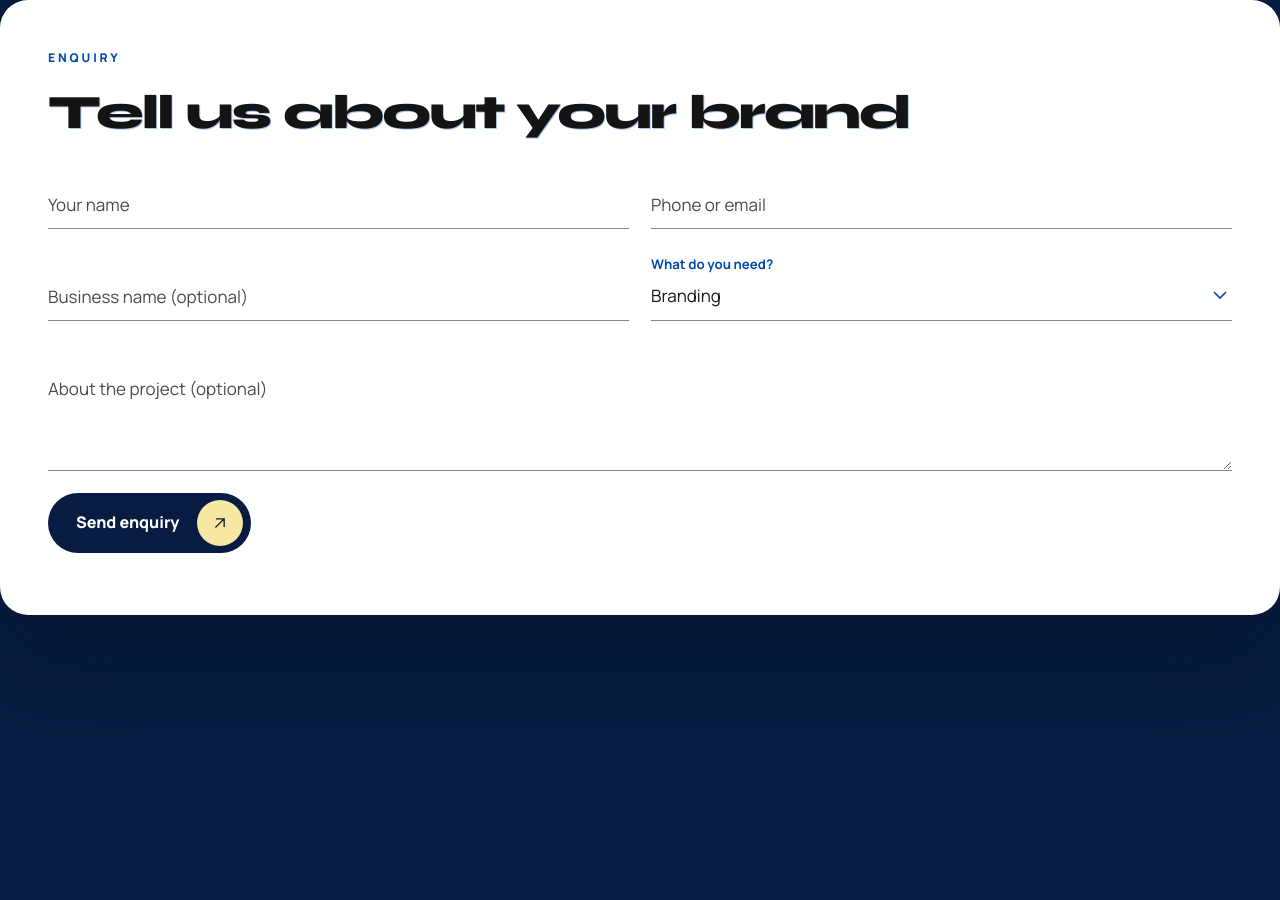
Scenario: EnquiryForm › shows server-side field errors
Type "Asha" into the field labelled "Your name".
click(338, 203); type("Asha")  # box [48, 177, 629, 229]
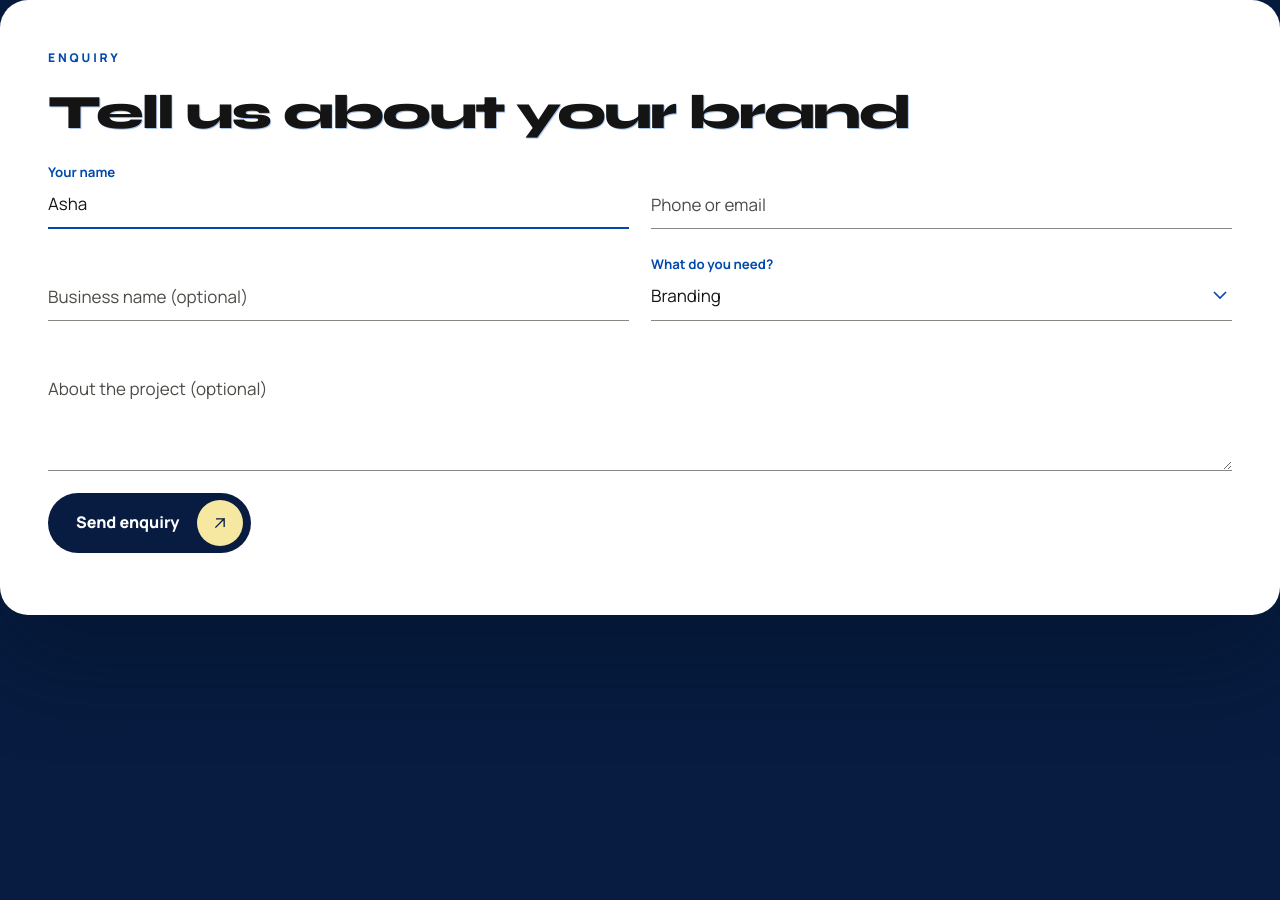
Type "asha@example.com" into the field labelled "Phone or email".
click(942, 203); type("asha@example.com")  # box [651, 177, 1232, 229]
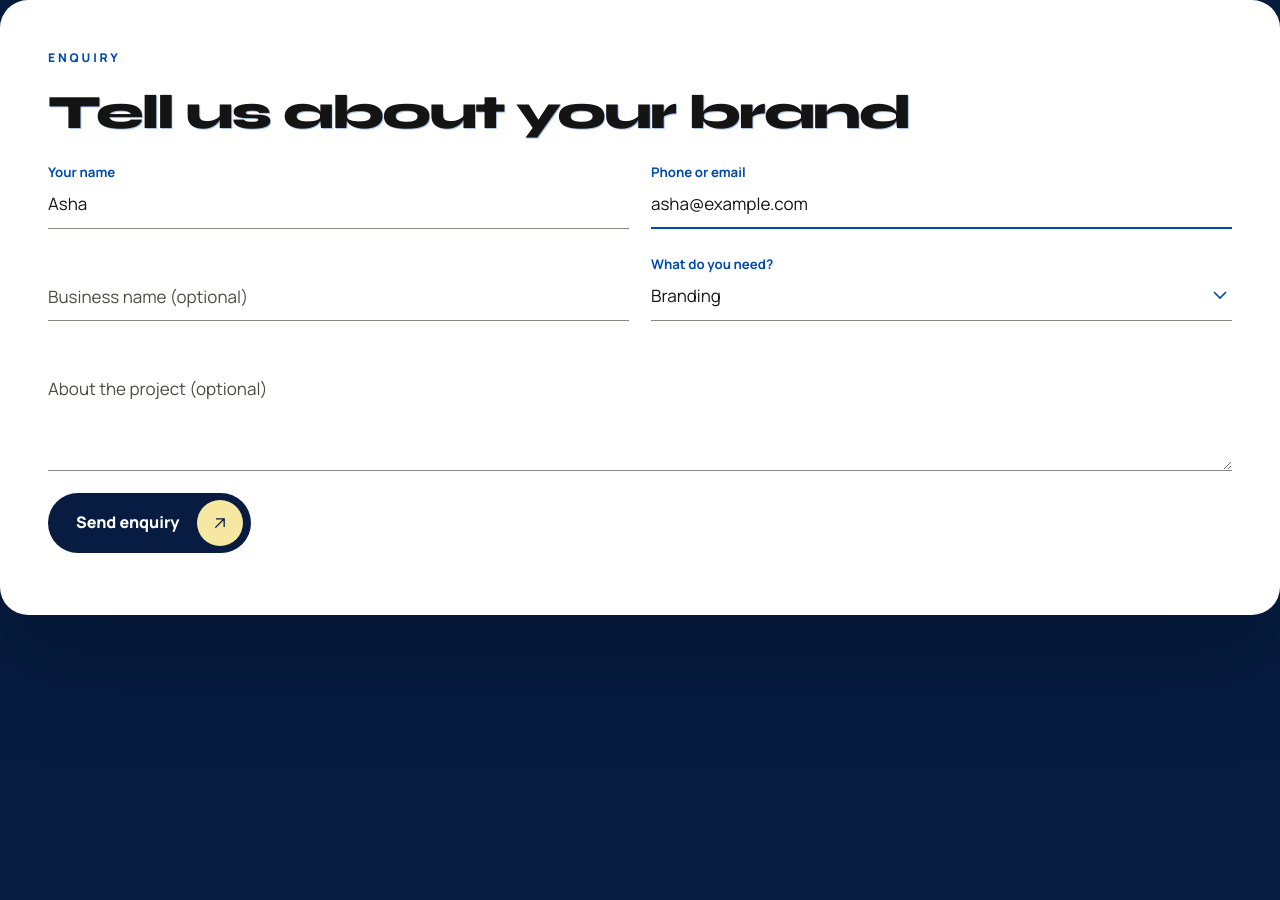
Select "Website Development" in the dropdown labelled "What do you need?" at (942, 295), box [651, 269, 1232, 321]
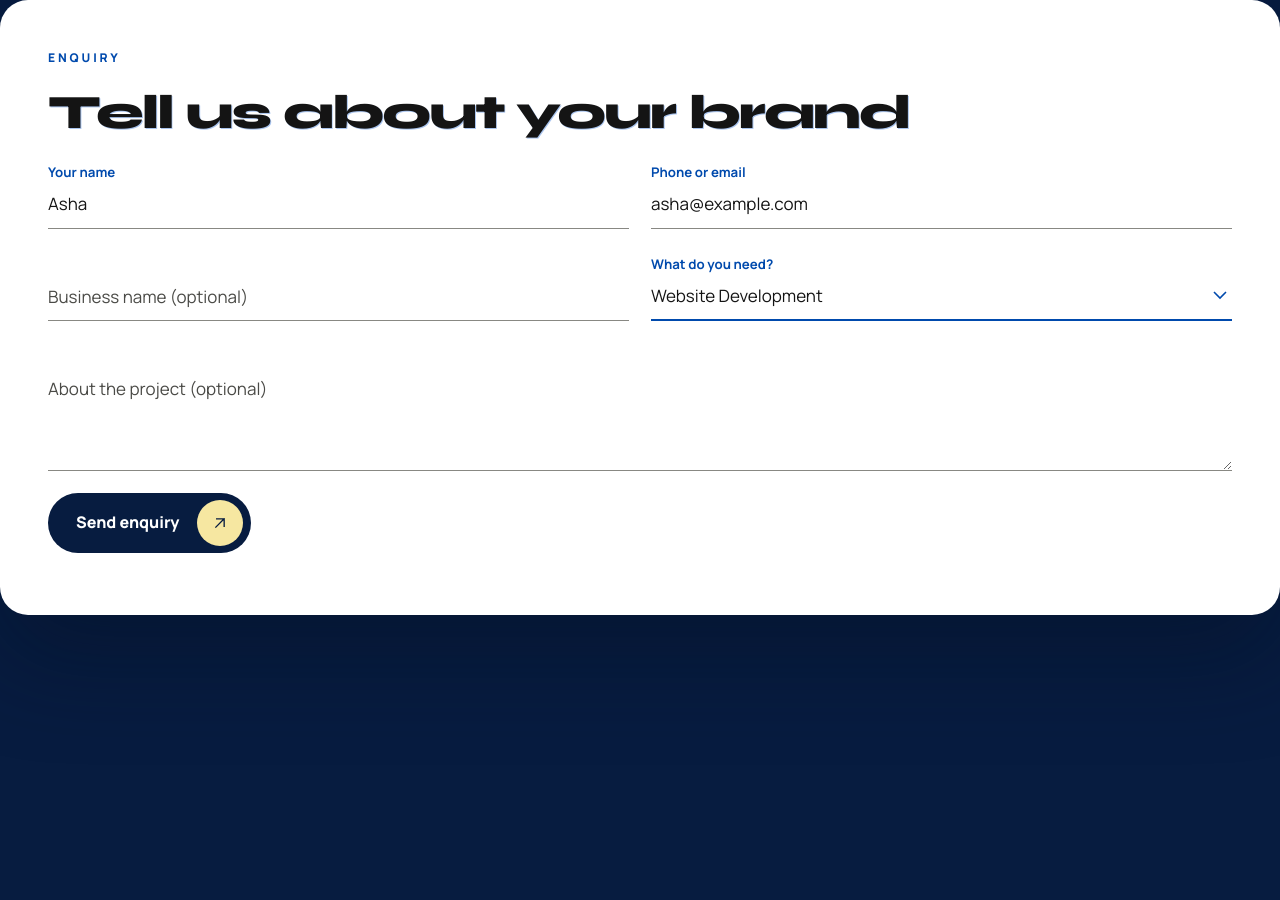
Click the button "Send enquiry".
click(150, 523)  # box [48, 493, 251, 553]
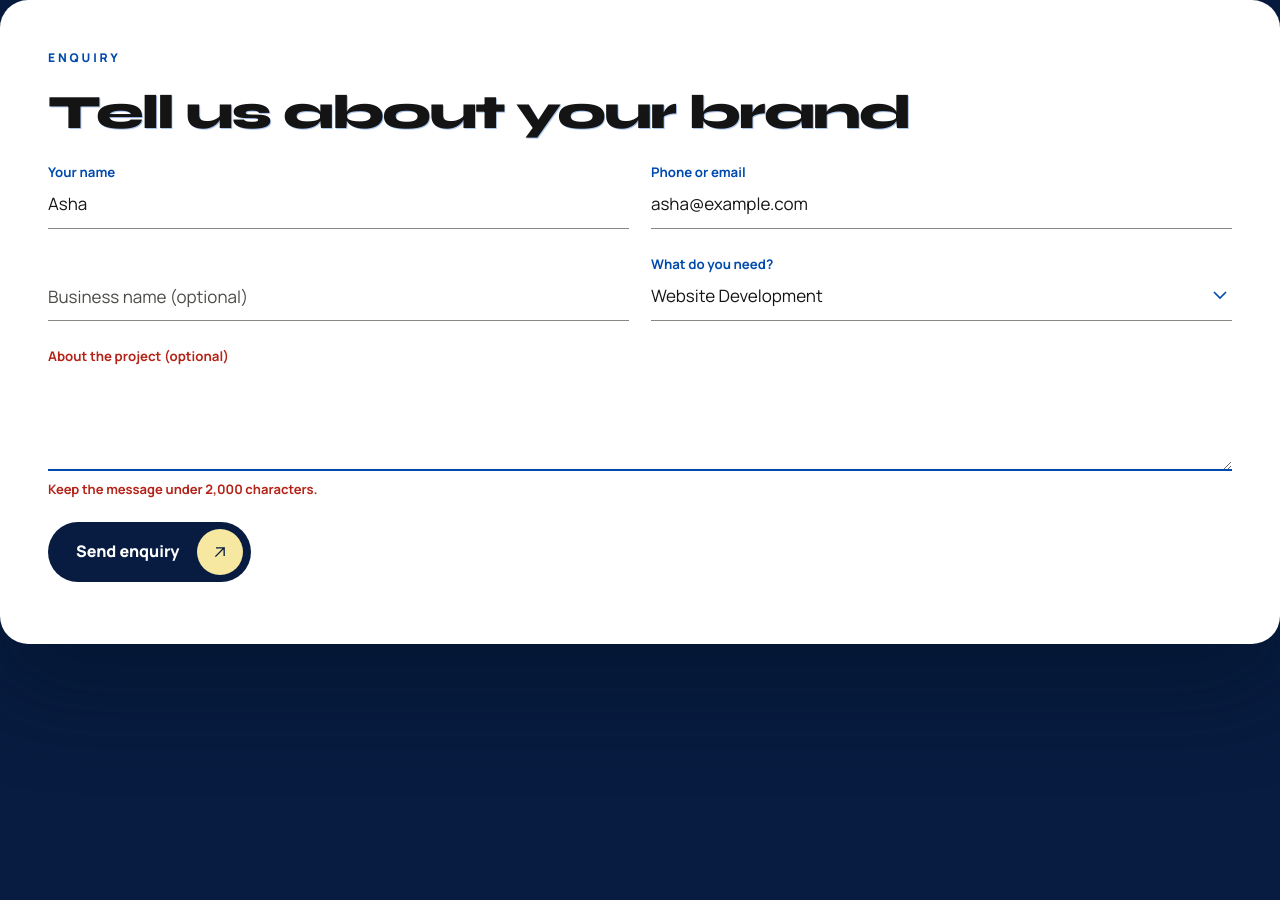
Now the text "Keep the message under 2,000 characters." is shown, box [48, 480, 317, 498]
